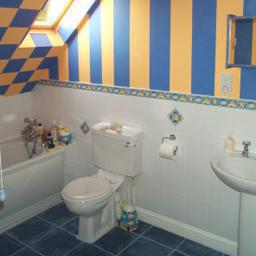Lavamanos: (213, 141, 254, 255)
Sanitario: (63, 124, 148, 247)
